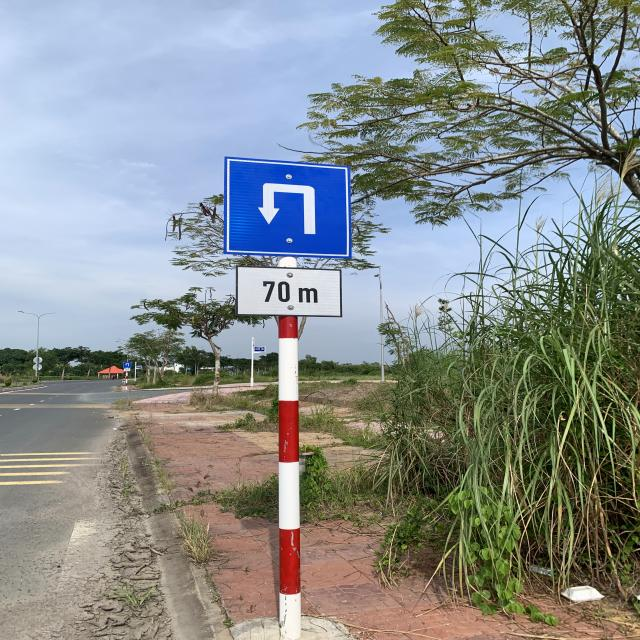Den_Giao_Thong: (226, 158, 350, 256)
